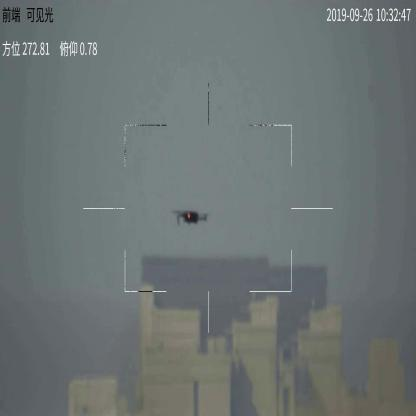uav: (171, 204, 213, 226)
